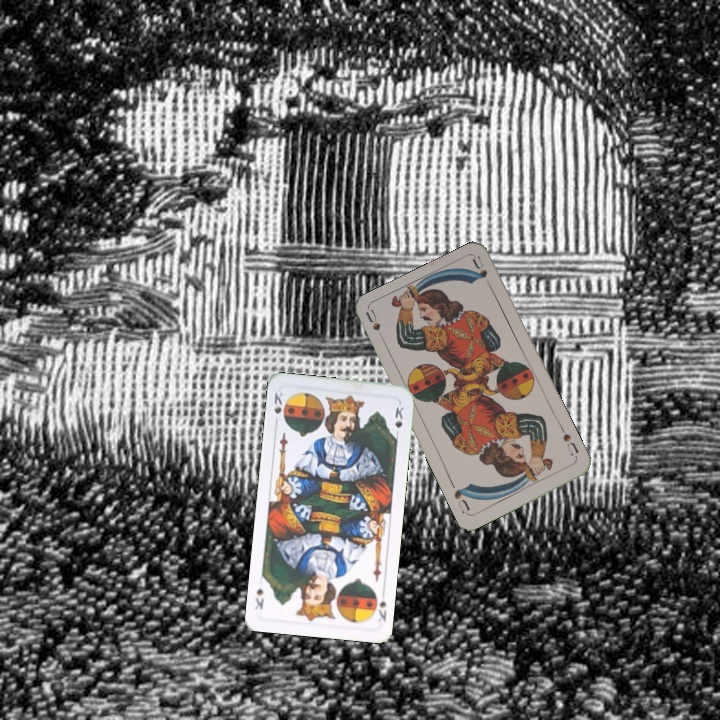SK: (270, 388, 289, 425), (373, 596, 389, 627)
SU: (362, 307, 388, 346), (559, 429, 582, 458)
